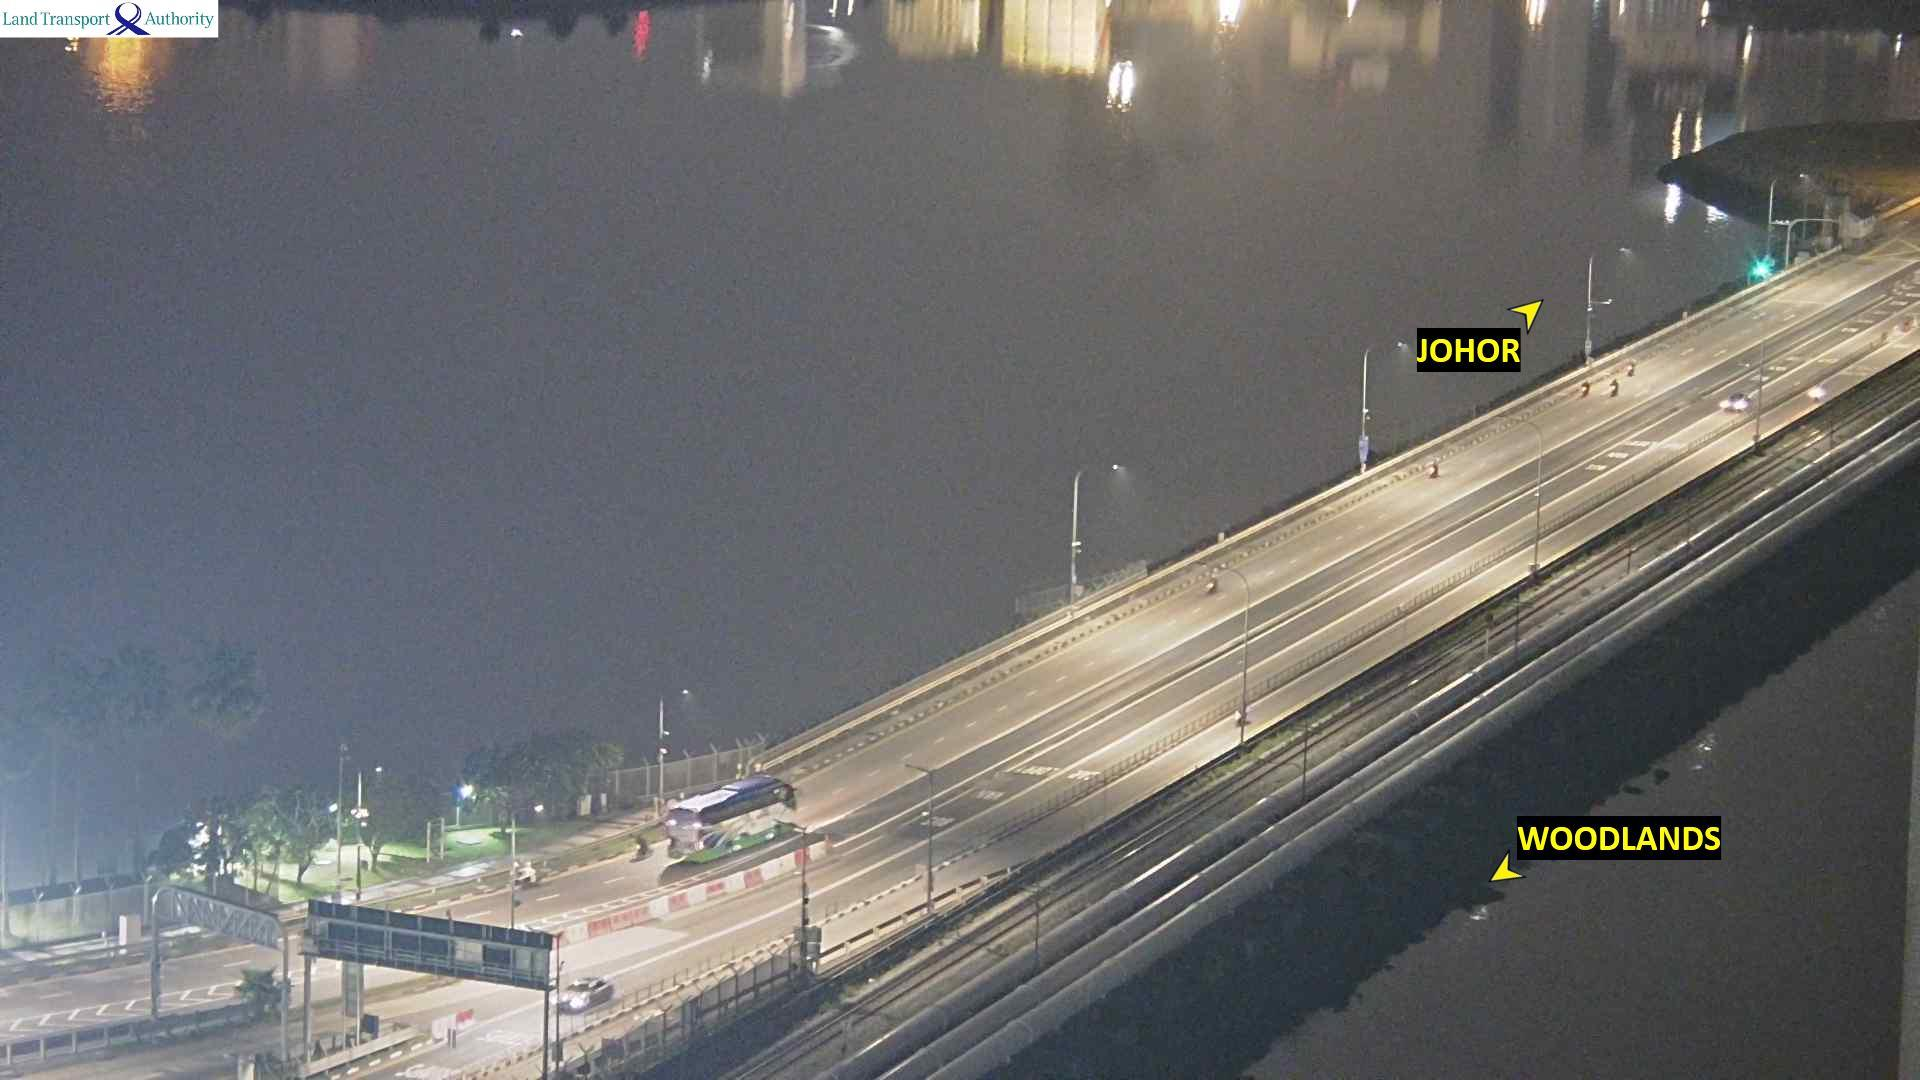vehicle-causeway-johor: (673, 782, 800, 853), (630, 840, 646, 857), (1205, 575, 1216, 592), (1581, 382, 1596, 394), (1427, 462, 1437, 476), (1626, 363, 1638, 373), (526, 870, 534, 884), (1611, 381, 1618, 394)
vehicle-causeway-singapore: (560, 973, 615, 1009), (1722, 393, 1743, 411), (1809, 381, 1822, 402)
